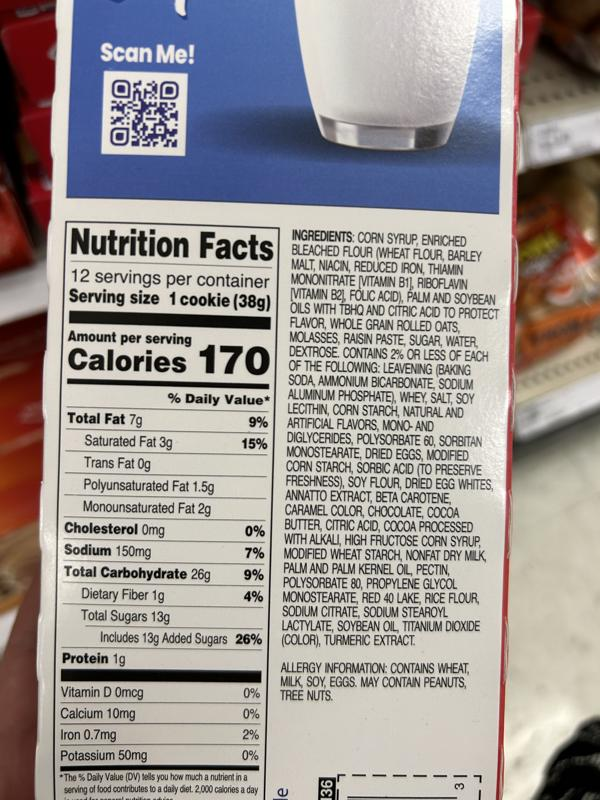ingredients: (280, 227, 502, 648)
